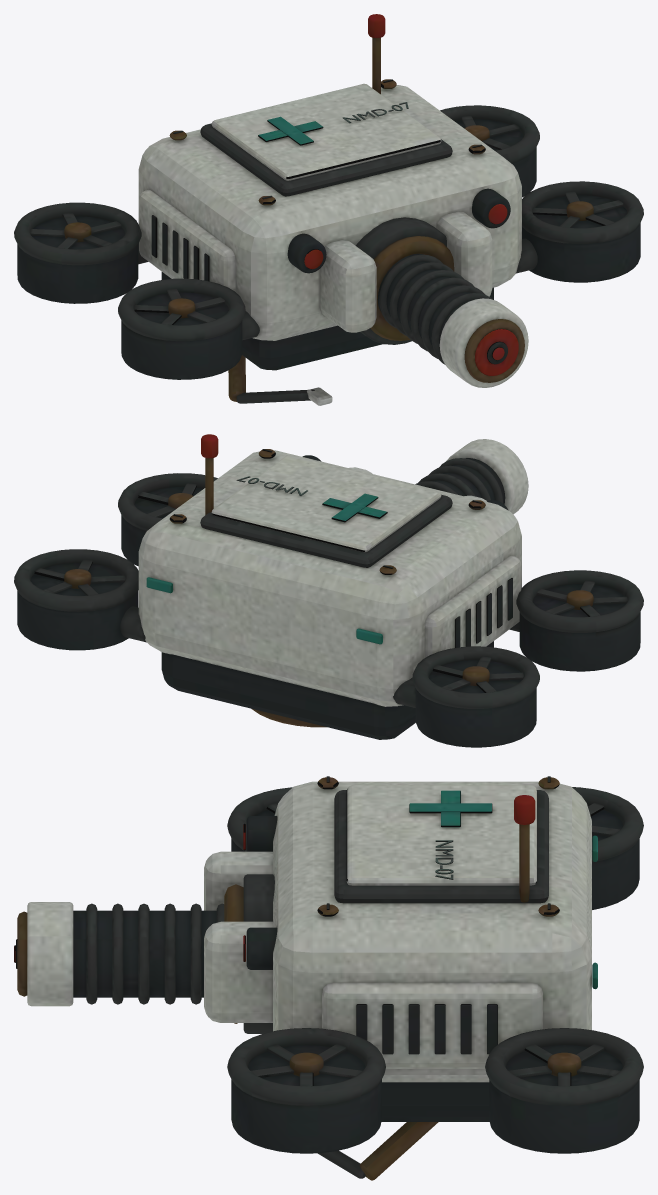
The model's file is rogue-bot.glb.
3 renders of one model, top to bottom at view 1: azimuth 30°, elevation 25°; view 2: azimuth 150°, elevation 25°; view 3: azimuth 270°, elevation 25°, orthographic. The views are drawn at different scales.
Visible parts, largest first — view 1: attack-membrane; view 2: attack-membrane; view 3: attack-membrane.
Part boxes in pixels (left/top/right/bottom): attack-membrane: left=14, top=14, right=643, bottom=405; attack-membrane: left=14, top=434, right=643, bottom=747; attack-membrane: left=14, top=776, right=643, bottom=1180.
Size of the model in its own units: 2.38 by 1.3 by 2.05.
Materials: 1 (1 with a texture image).
